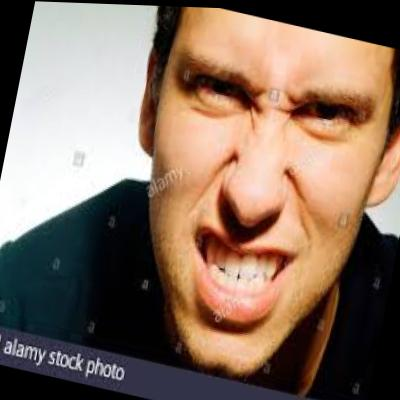angry: (86, 3, 400, 395)
